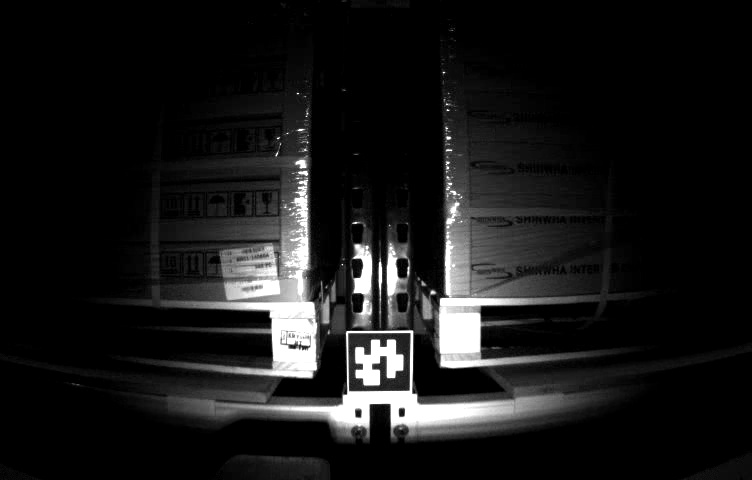True Barcode: (216, 246, 283, 302)
